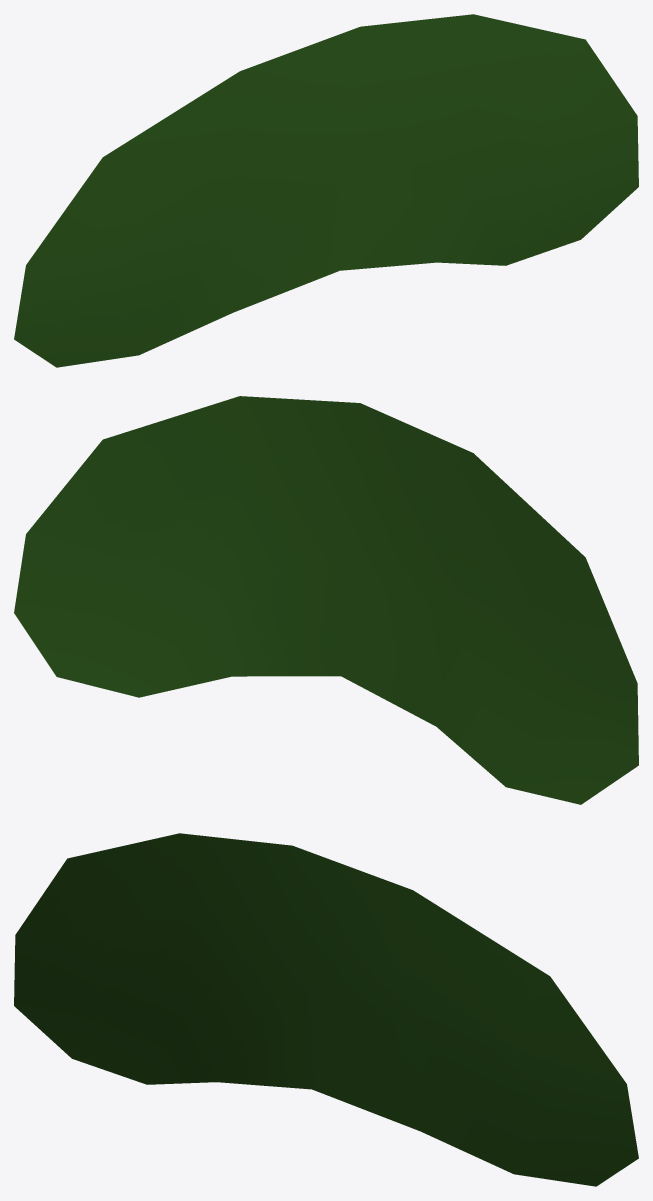
The model's file is Mouth_Green_7.fbx.
3 views of the same model, one above another, from view 1: azimuth 30°, elevation 25°; view 2: azimuth 150°, elevation 25°; view 3: azimuth 330°, elevation 25° (orthographic).
Parts seen in each view (by area): view 1: Mouth_Green_7; view 2: Mouth_Green_7; view 3: Mouth_Green_7.
Boxes of the visible parts, <box> form: Mouth_Green_7: <box>14,14,638,367</box>; Mouth_Green_7: <box>14,396,638,804</box>; Mouth_Green_7: <box>14,833,638,1186</box>.
Bounding box in the file's own units: 7.44 × 3.55 × 0.8569.
